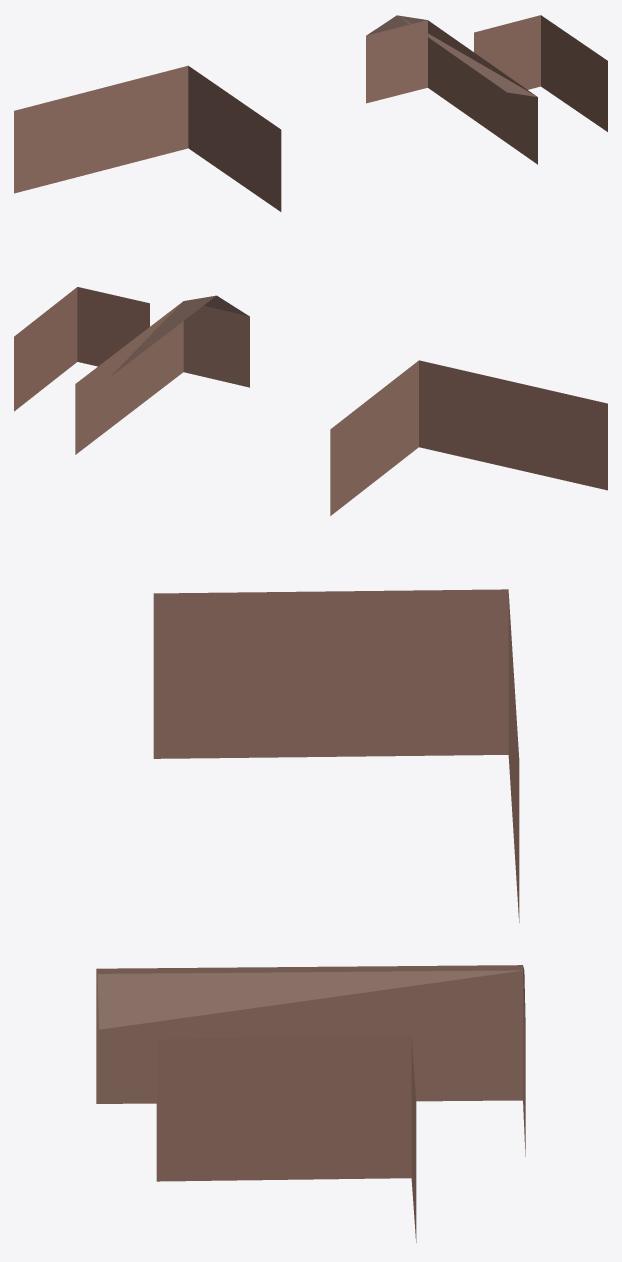
Rendered from c_1633_17829_buildings_residential.glb.
The picture shows the model from 3 angles, top to bottom: view 1: azimuth 30°, elevation 25°; view 2: azimuth 150°, elevation 25°; view 3: azimuth 270°, elevation 25°; orthographic projection. The views are drawn at different scales.
Visible parts, largest first — view 1: geometry_0; view 2: geometry_0; view 3: geometry_0.
Part boxes in pixels (x1,y1,x2,y2): geometry_0: [14, 15, 607, 211]; geometry_0: [14, 287, 607, 515]; geometry_0: [96, 589, 525, 1242].
Bounding box in the file's own units: 70.57 × 11.08 × 25.87.
